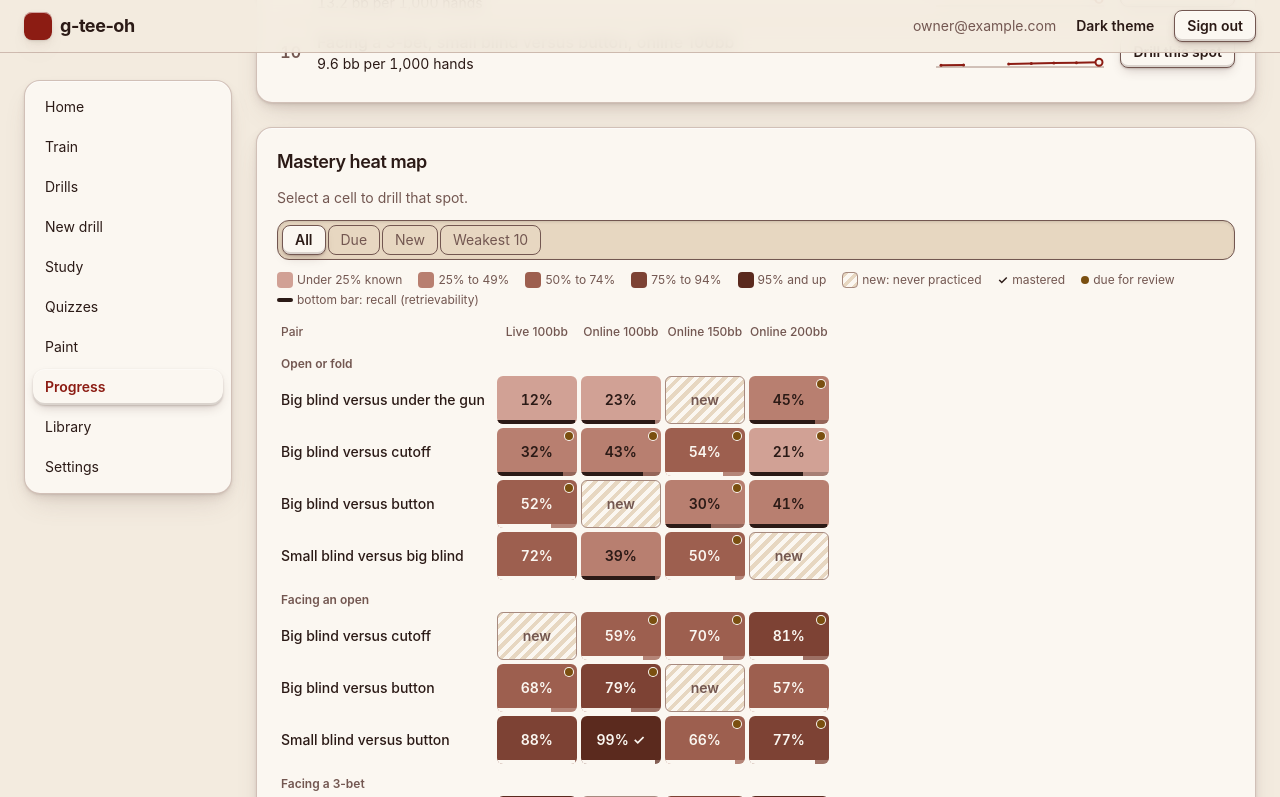
Test: R4.12 /progress › R4.12 a heat map cell opens the class's existing auto drill (O-321)
(page scrolled)
Click the button named "Open or fold, big blind versus under the gun, live 100bb:": (537, 400) [497,376,577,424]
(page scrolled)
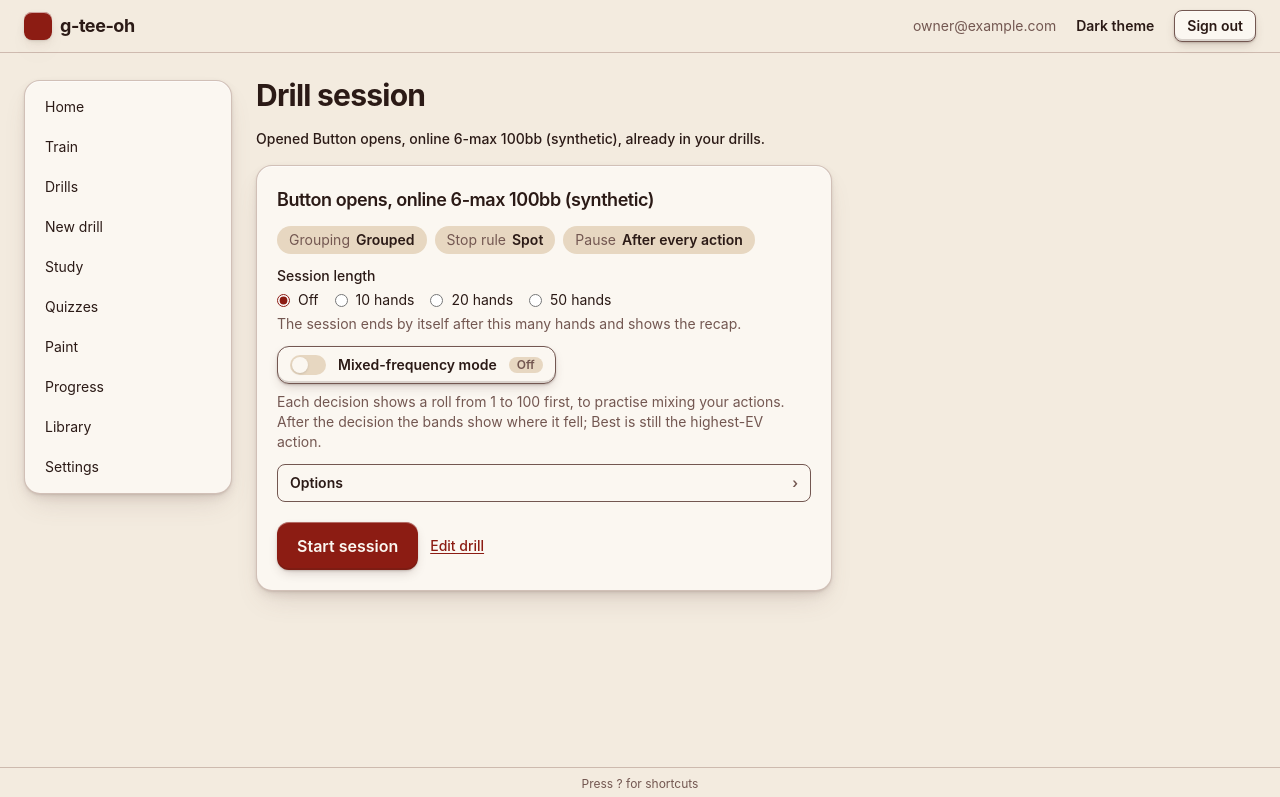
Now the message with test id "opened-note" shows "already in your drills.", box [256,130,765,147]
